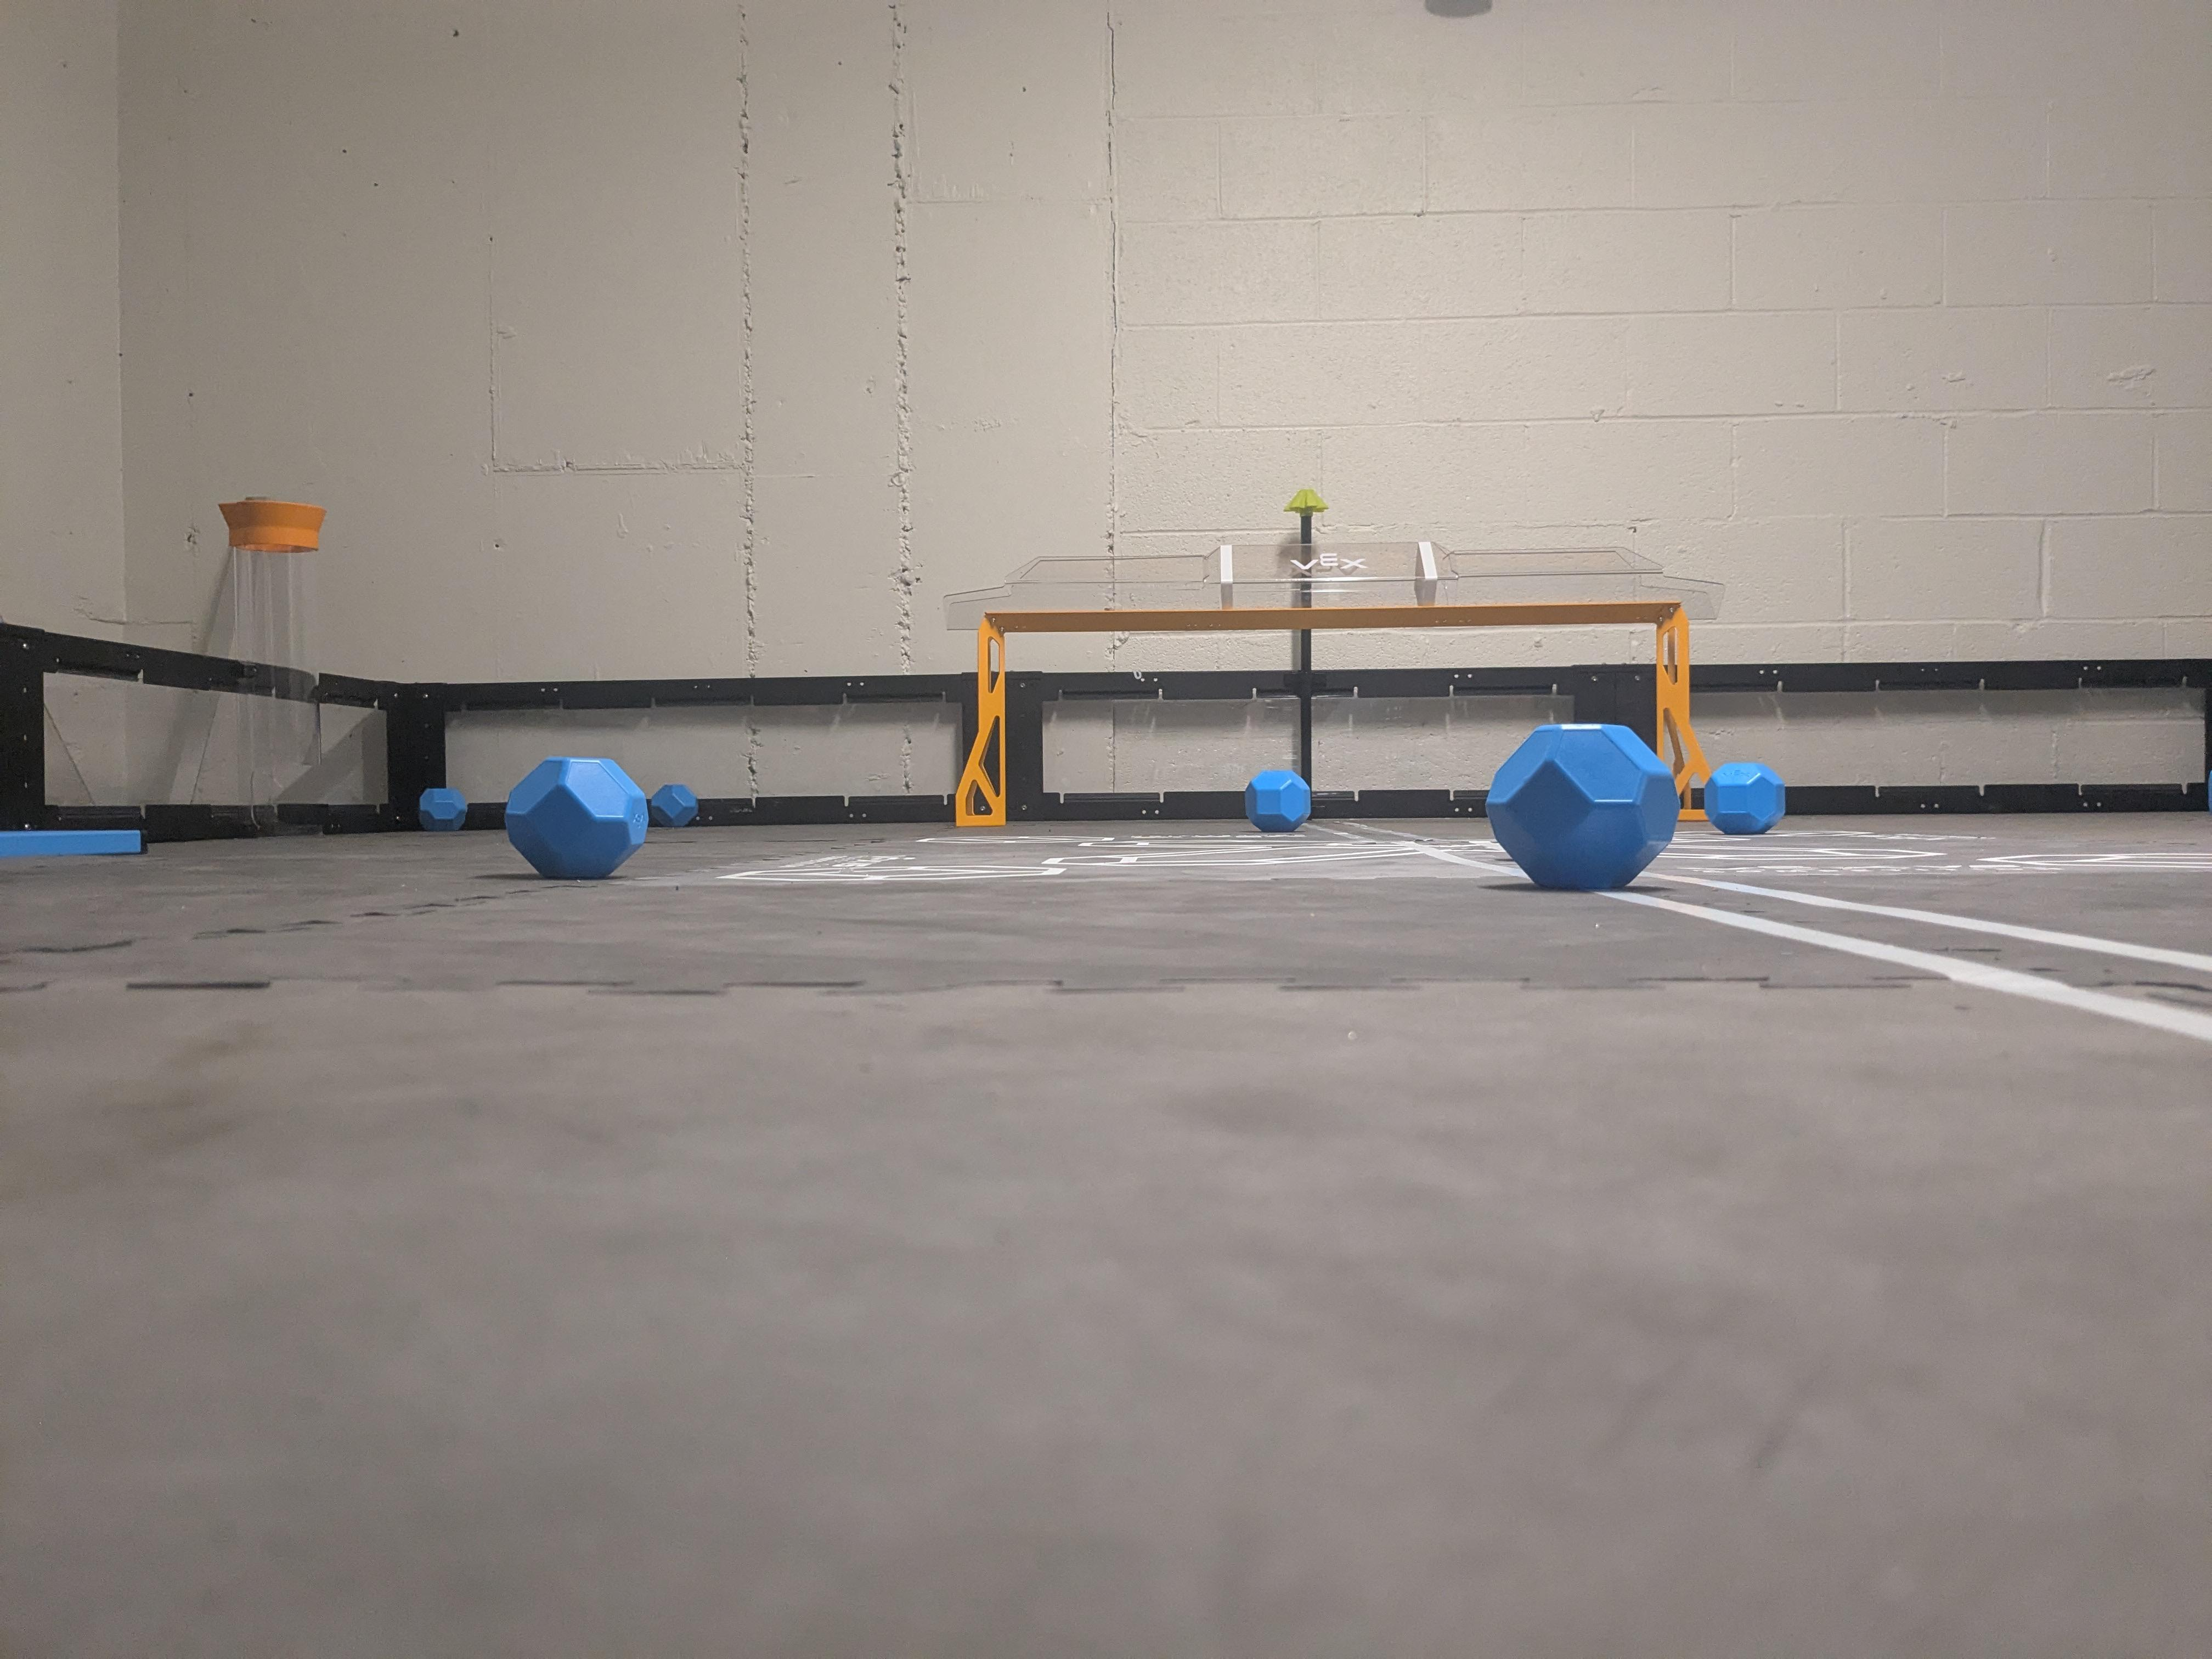Vex-Pieces-BLUE: (1486, 725, 1676, 889), (503, 756, 646, 877), (1707, 765, 1778, 835), (1244, 770, 1310, 833), (650, 782, 698, 828), (418, 788, 467, 831)
